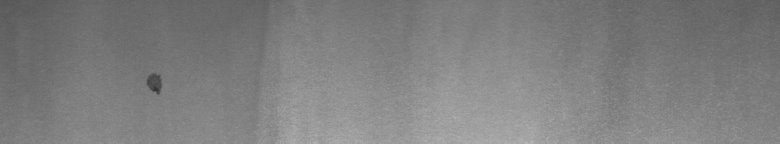fi: (141, 68, 168, 100)
